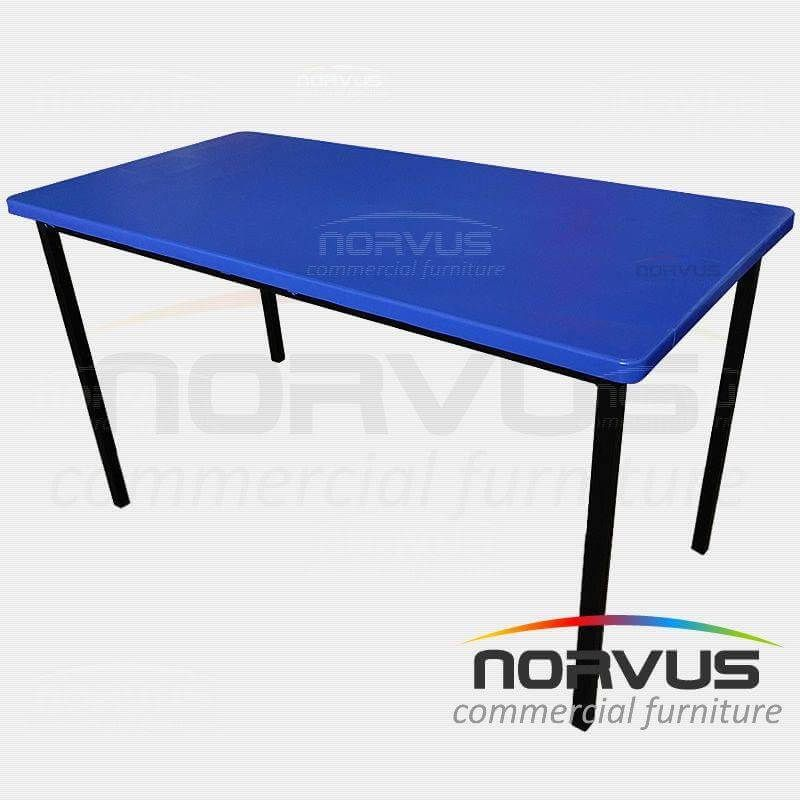m01: (6, 129, 796, 598)
